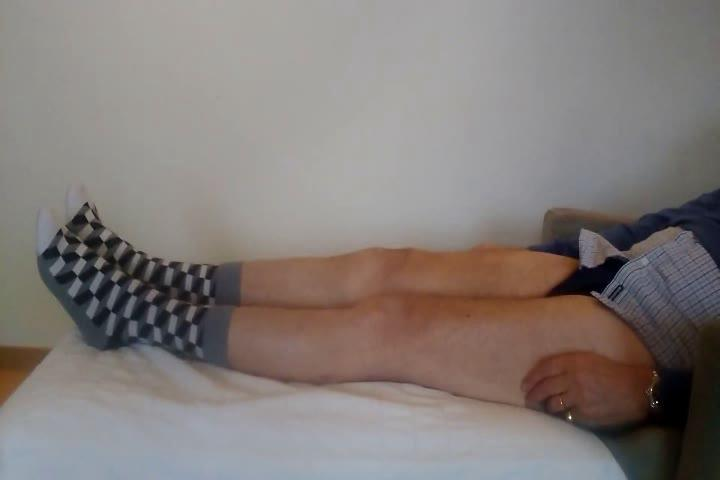lowerbody: (26, 171, 702, 445)
